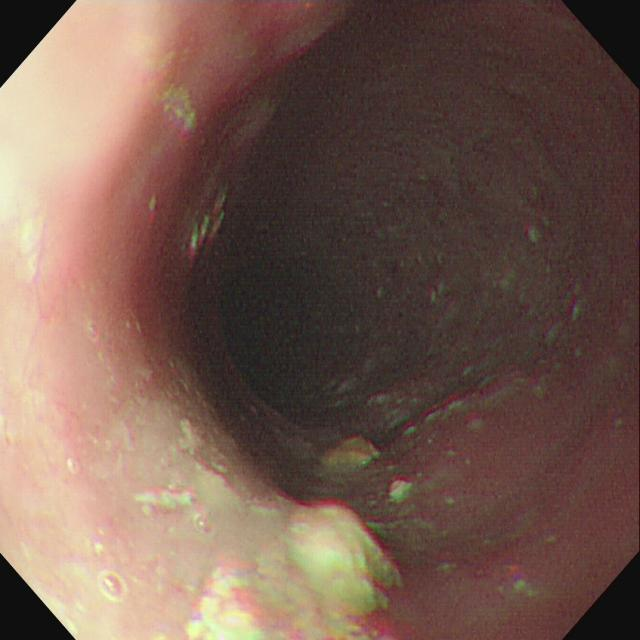E: (170, 182, 421, 443)
J: (186, 433, 414, 640)
